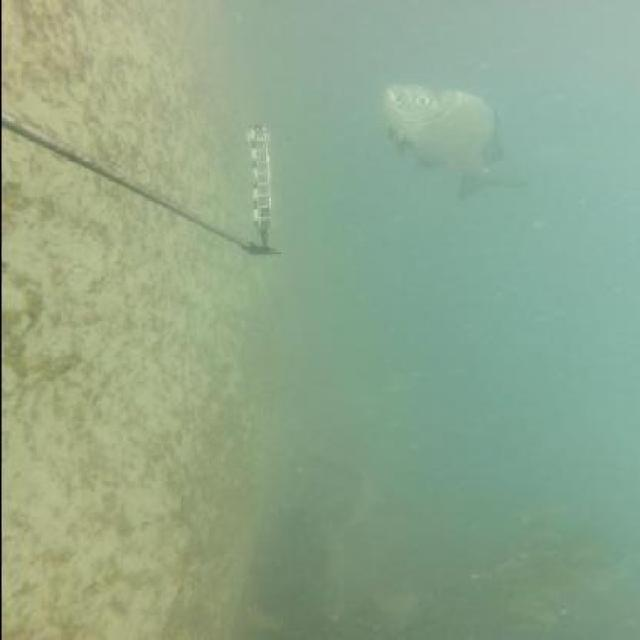acanthopagrus_palmaris: (372, 82, 526, 202)
